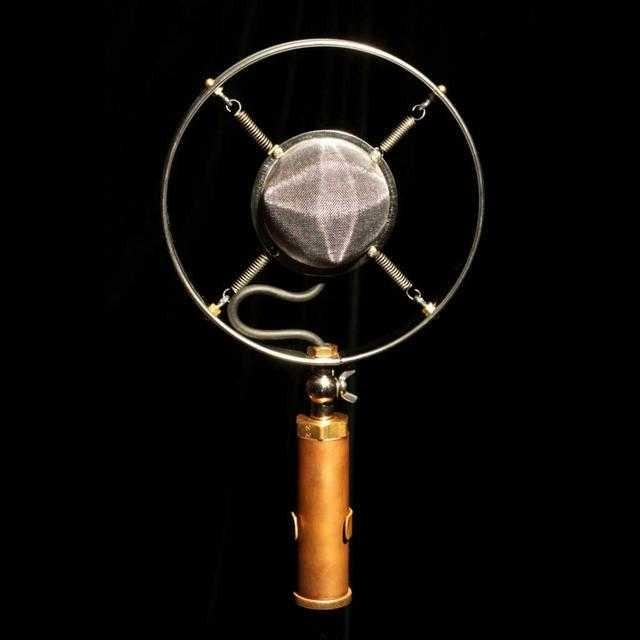microphone: (161, 46, 484, 610)
